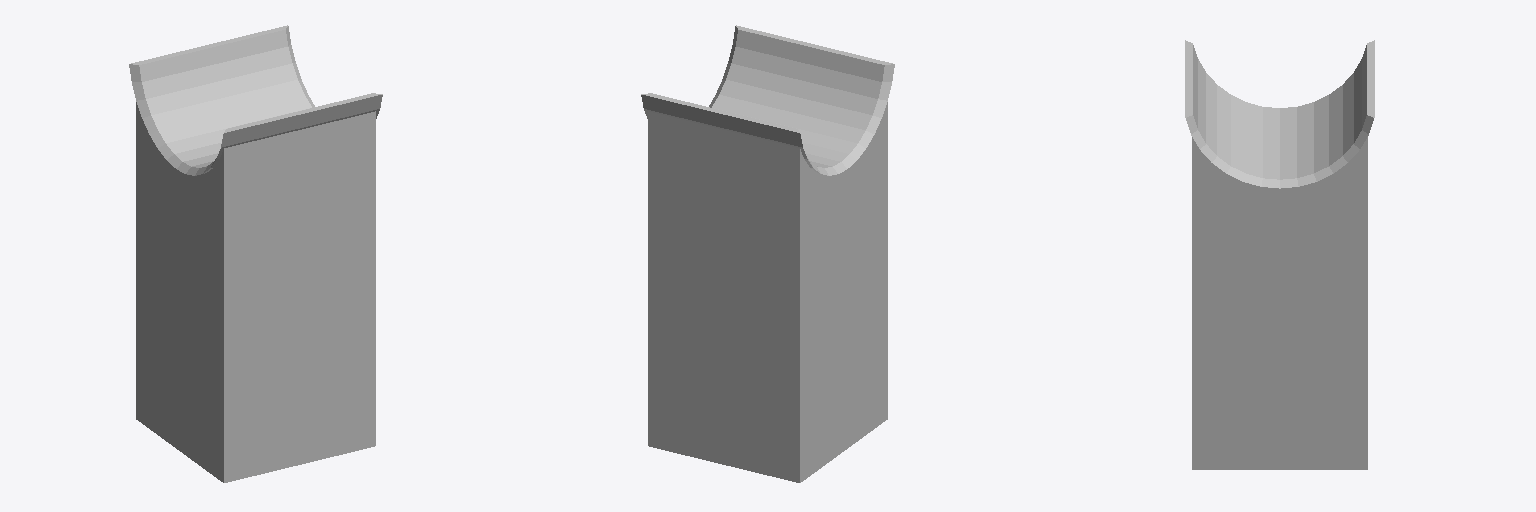
File: UfoBuilding2.obj
3 views of the same model, side by side, from view 1: azimuth 30°, elevation 25°; view 2: azimuth 150°, elevation 25°; view 3: azimuth 270°, elevation 25° (orthographic).
Parts seen in each view (by area): view 1: HalfpipeBuilding; view 2: HalfpipeBuilding; view 3: HalfpipeBuilding.
Boxes of the visible parts, x1,y1,x2,y2 form: HalfpipeBuilding: [129, 25, 382, 482]; HalfpipeBuilding: [641, 25, 894, 482]; HalfpipeBuilding: [1185, 40, 1374, 469].
Size of the model in its own units: 94.35 by 200 by 96.92.